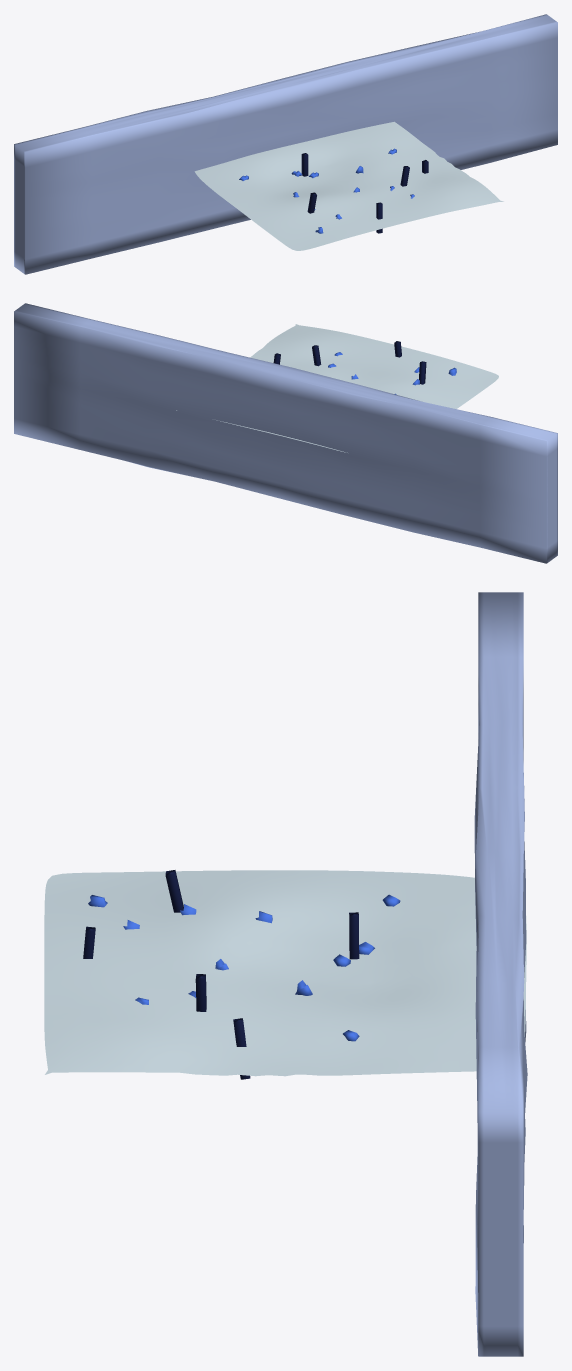
Rendered from tundra.glb.
The picture shows the model from 3 angles, top to bottom: view 1: azimuth 30°, elevation 25°; view 2: azimuth 150°, elevation 25°; view 3: azimuth 270°, elevation 25°; orthographic projection. The views are drawn at different scales.
Parts seen in each view (by area): view 1: wall-col, ground-col; view 2: wall-col, ground-col; view 3: ground-col, wall-col.
Part boxes in pixels (x1,y1,x2,y2): wall-col: (14, 14, 557, 274); ground-col: (194, 121, 503, 250); wall-col: (14, 303, 557, 563); ground-col: (176, 324, 498, 452); ground-col: (44, 870, 526, 1076); wall-col: (474, 592, 527, 1356).
Size of the model in its own units: 1530 by 345 by 601.
